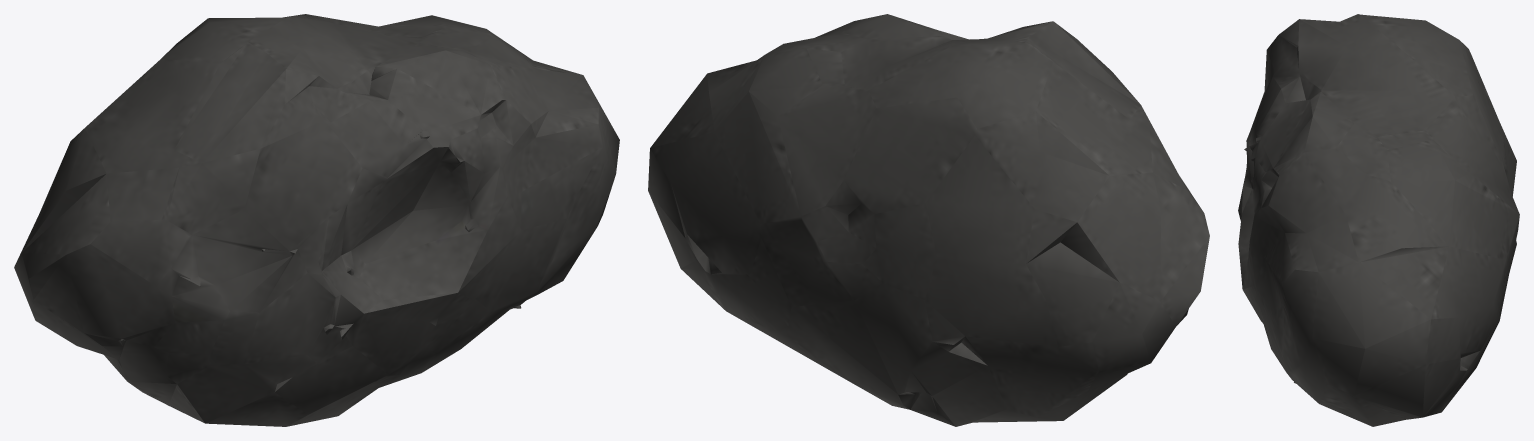
The model's file is carbonaceous_asteroid_01_rounded_lod2.glb.
3 renders of one model, left to right at view 1: azimuth 30°, elevation 25°; view 2: azimuth 150°, elevation 25°; view 3: azimuth 270°, elevation 25°, orthographic. The views are drawn at different scales.
Parts seen in each view (by area): view 1: mesh_node; view 2: mesh_node; view 3: mesh_node.
Boxes of the visible parts, left/top/right/bottom form: mesh_node: left=14, top=14, right=619, bottom=426; mesh_node: left=648, top=14, right=1209, bottom=426; mesh_node: left=1238, top=14, right=1519, bottom=426.
Bounding box in the file's own units: 2.01 × 1.3 × 0.9534.
1 material, 1 textured.
